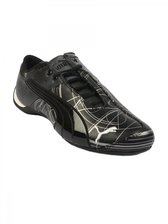shoes: (9, 50, 153, 157)
